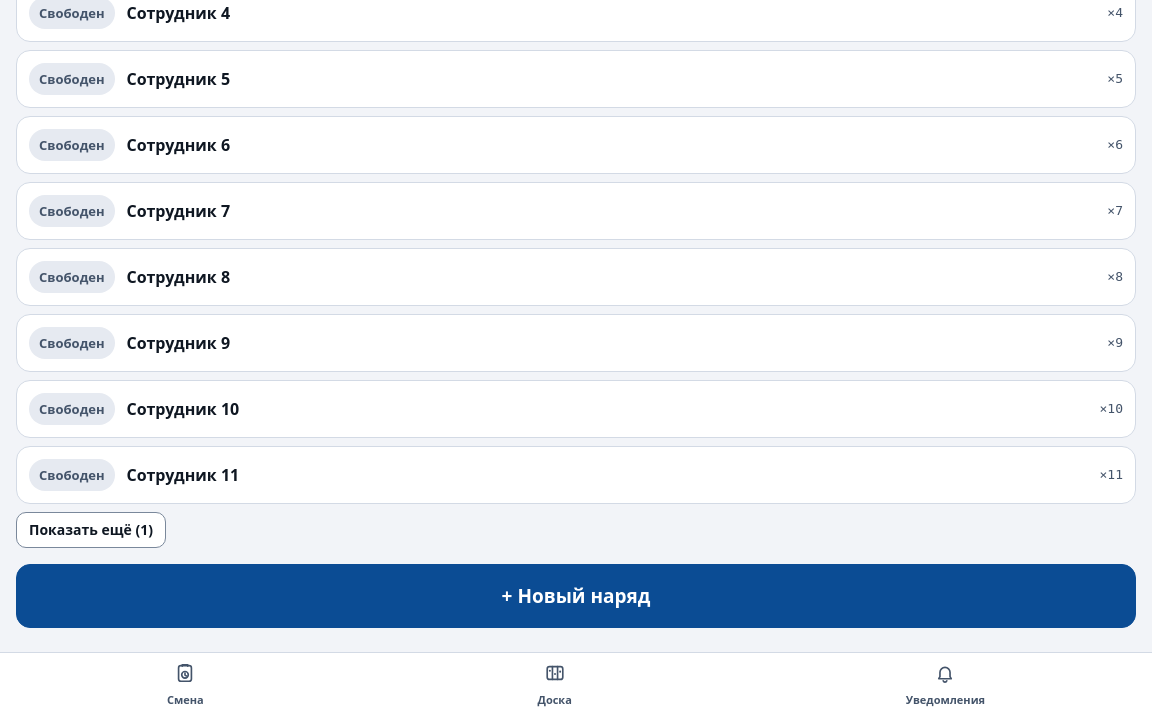
Scenario: MasterShift › paginates team list
(page scrolled)
expect the text "Сотрудник 12" is not shown: met
What coordinates should you click on to do the following:
click the button "Показать ещё (1)"
I would click on:
 (91, 530)
Its box is [16,512,166,548].
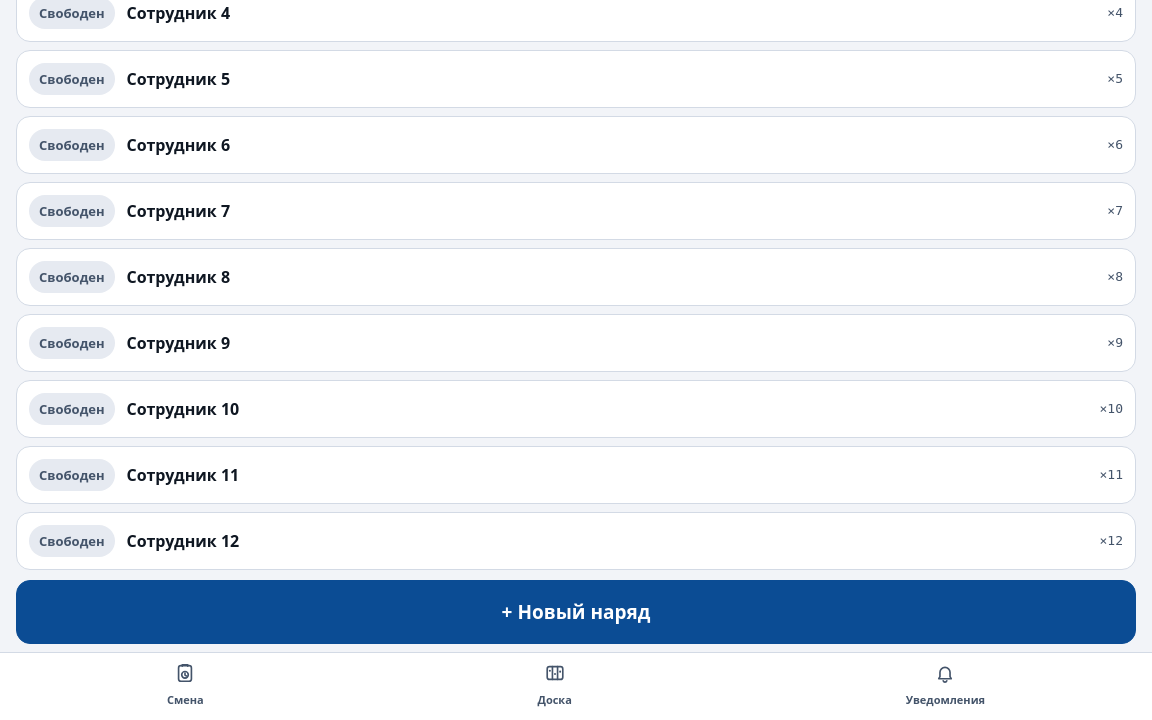
expect the text "Сотрудник 12" is shown: met, box [127,529,239,553]
